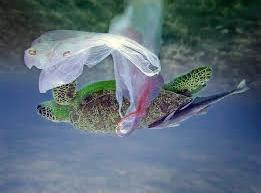Trash: (22, 7, 160, 92)
